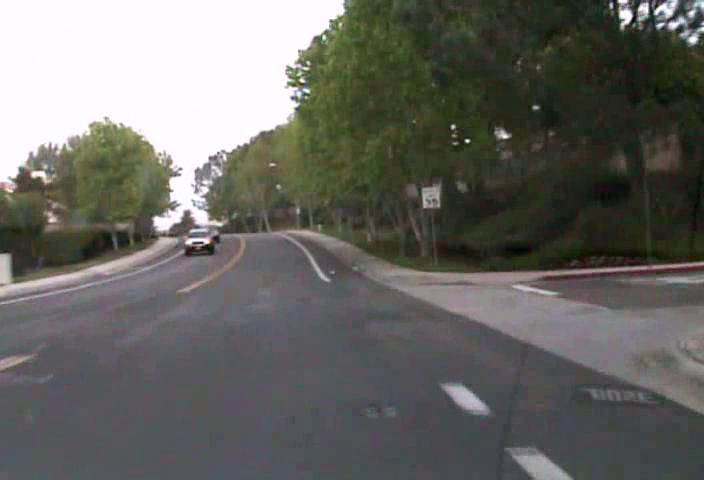speedLimit35: (420, 184, 442, 209)
